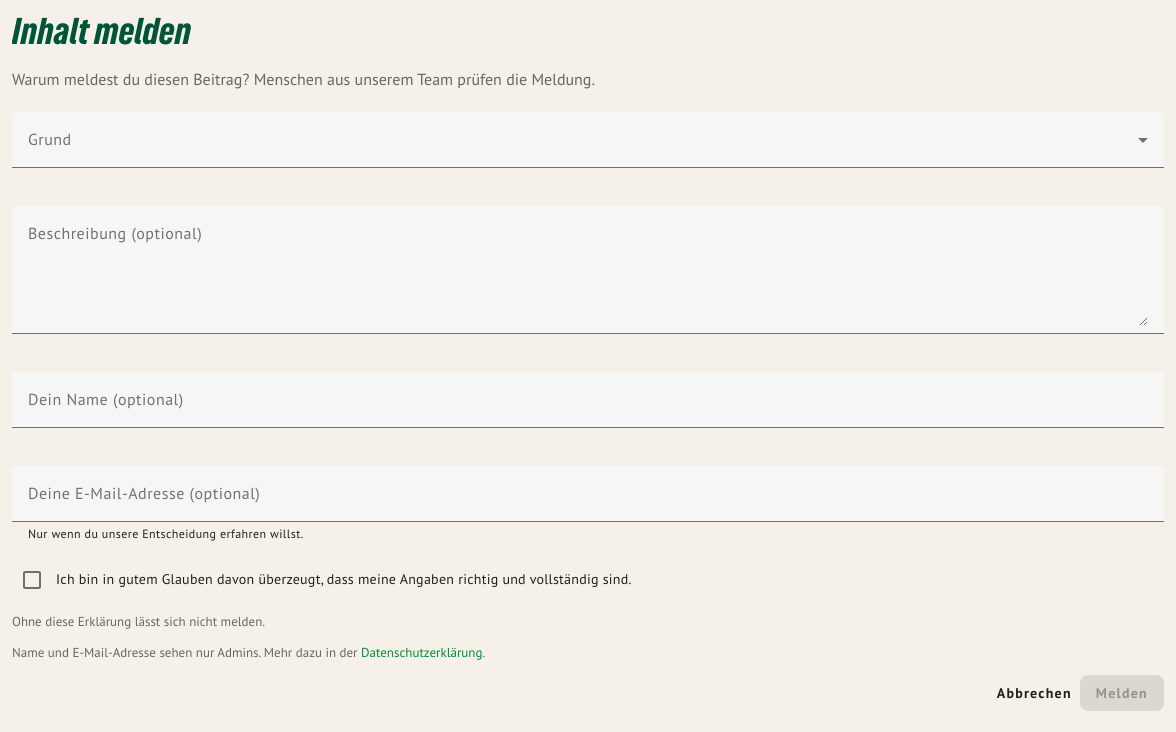
Test: ReportDialogComponent › meldet nicht mit einer E-Mail-Adresse, die keine ist, und sagt es nach dem Verlassen des Feldes
The image size is (1176, 732).
Click the checkbox: (342, 580) [52,570,632,590]
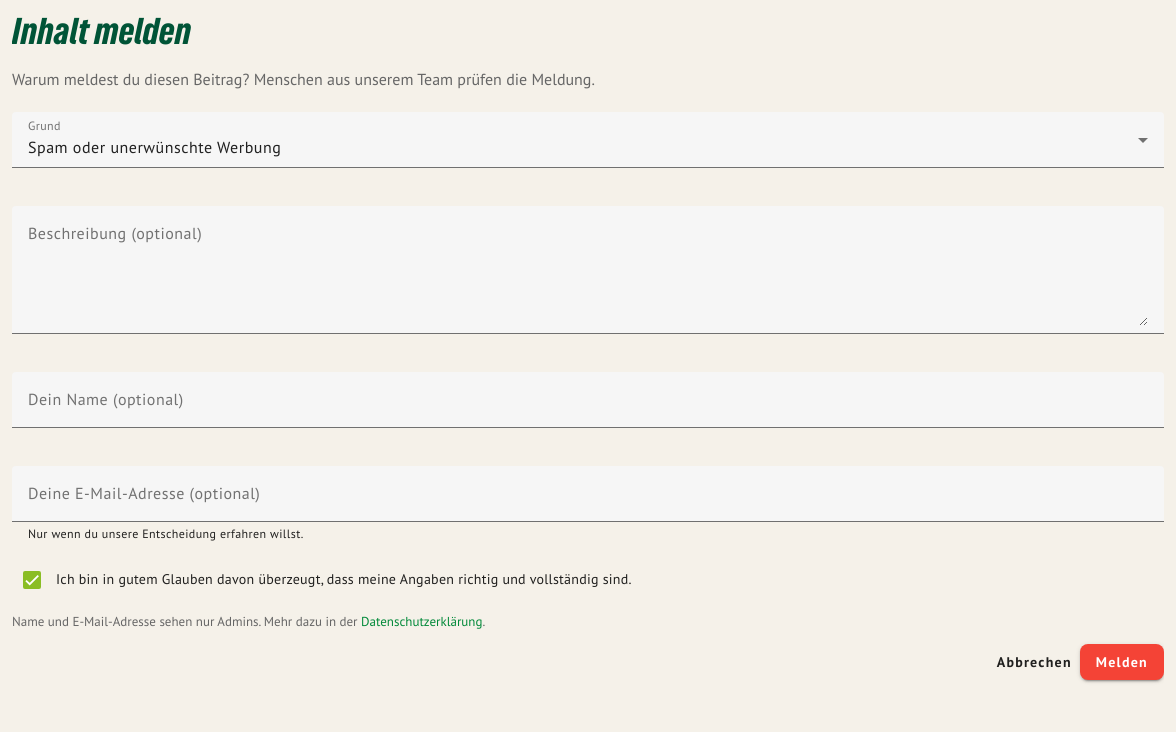
In the field named "melder_email": (588, 502) [28,490,1148,514], type "anna@"
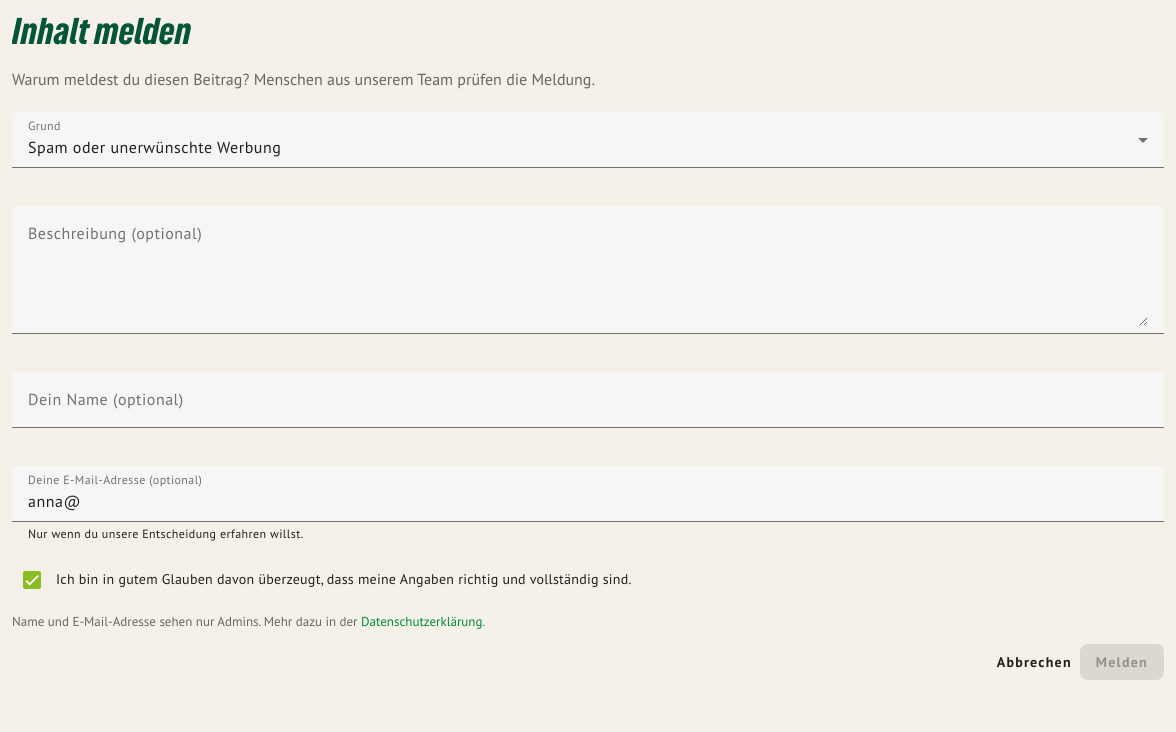
Expected: the text "Das ist keine E-Mail-Adresse." is not shown
Now the button with test id "melden-senden" is disabled, box [1080,644,1164,680]
Leave the field named "melder_email", box [28,490,1148,514]
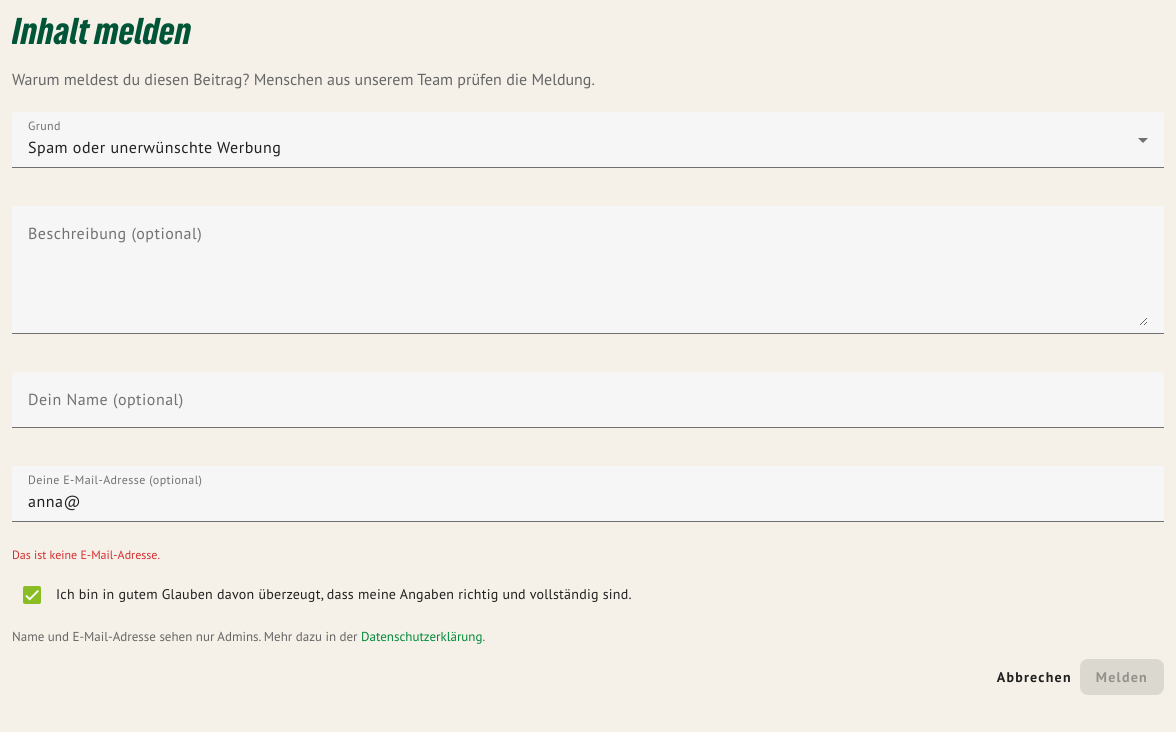
Now the text "Das ist keine E-Mail-Adresse." is shown, box [12,548,160,562]
